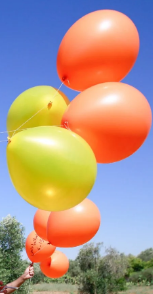Balloon: (57, 9, 153, 91), (6, 126, 97, 210), (63, 82, 153, 163), (46, 200, 101, 247), (26, 231, 52, 262), (40, 251, 69, 278)
